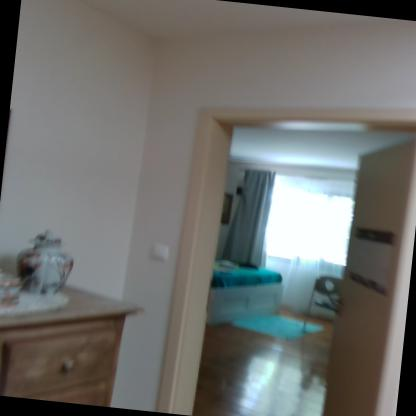open: (150, 75, 415, 415)
